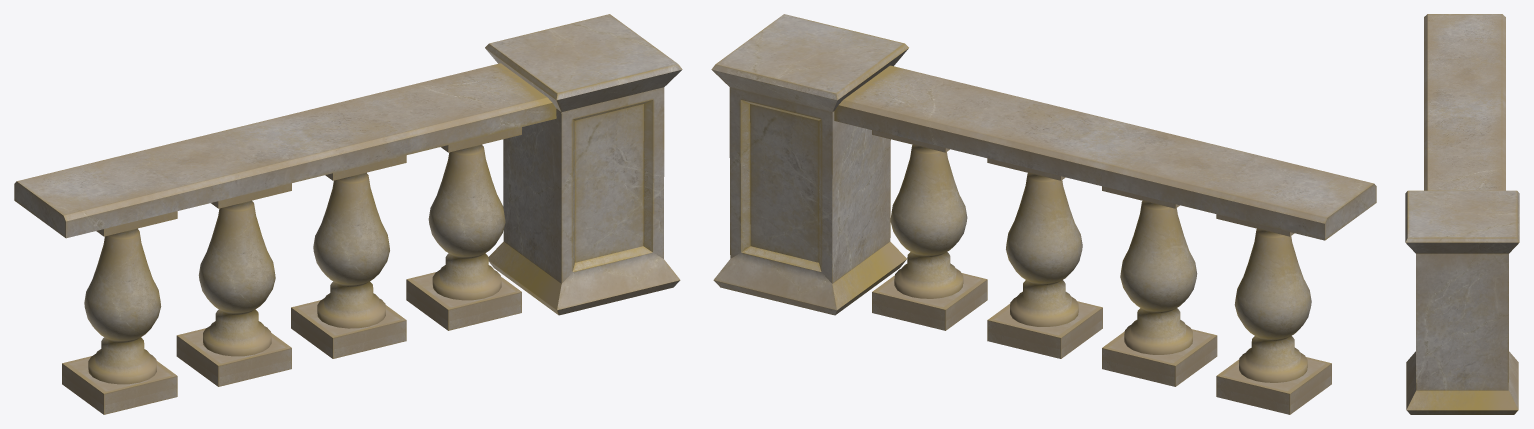
The model's file is Railing.fbx.
3 views of the same model, side by side, from view 1: azimuth 30°, elevation 25°; view 2: azimuth 150°, elevation 25°; view 3: azimuth 270°, elevation 25° (orthographic). The views are drawn at different scales.
Parts seen in each view (by area): view 1: balustraude; view 2: balustraude; view 3: balustraude.
Boxes of the visible parts, bbox=[...] form: balustraude: bbox=[14, 14, 682, 414]; balustraude: bbox=[711, 14, 1376, 414]; balustraude: bbox=[1405, 14, 1519, 414].
Bounding box in the file's own units: 205 × 72.43 × 42.04.
